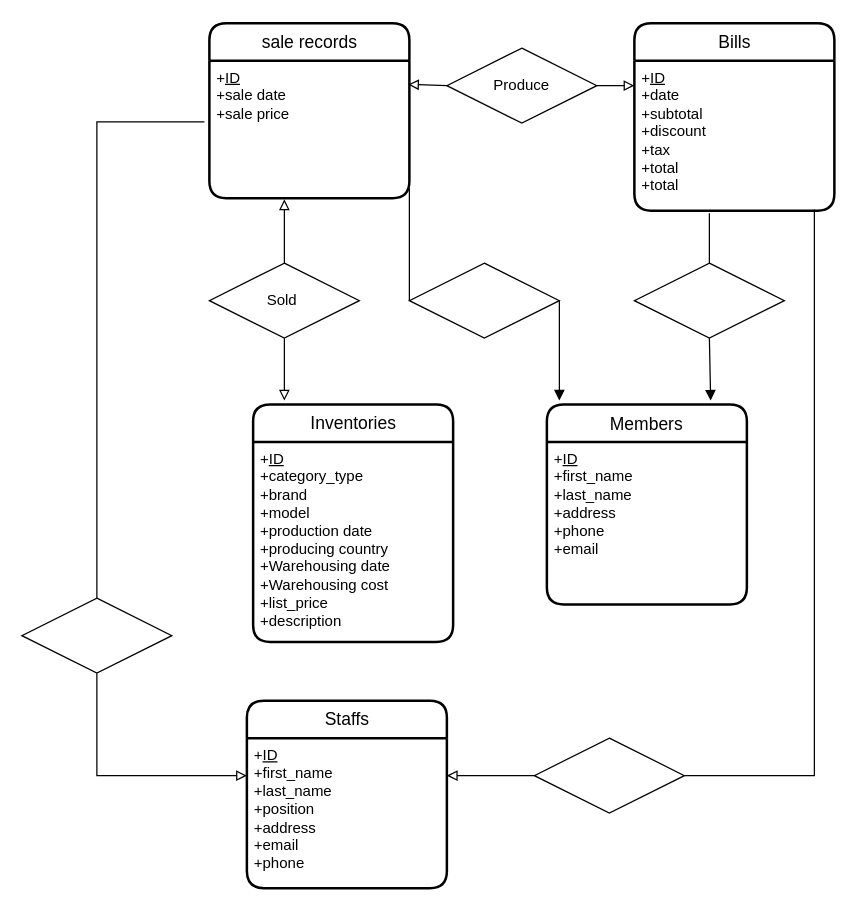
This 858x910 diagram has some shape labels left out. The shapes that lost their labels are listed below. From the top down, each one's centre as x and y in pixels, then its label:
At (x=483, y=300): "Bought by".
At (x=708, y=300): "paid by".
At (x=96, y=635): "Sold by".
At (x=608, y=775): "Produced by".
